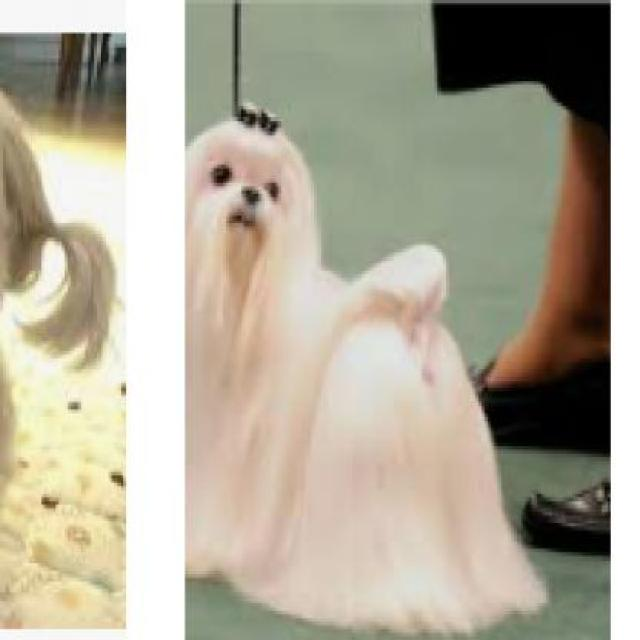Dog: (188, 103, 564, 637)
